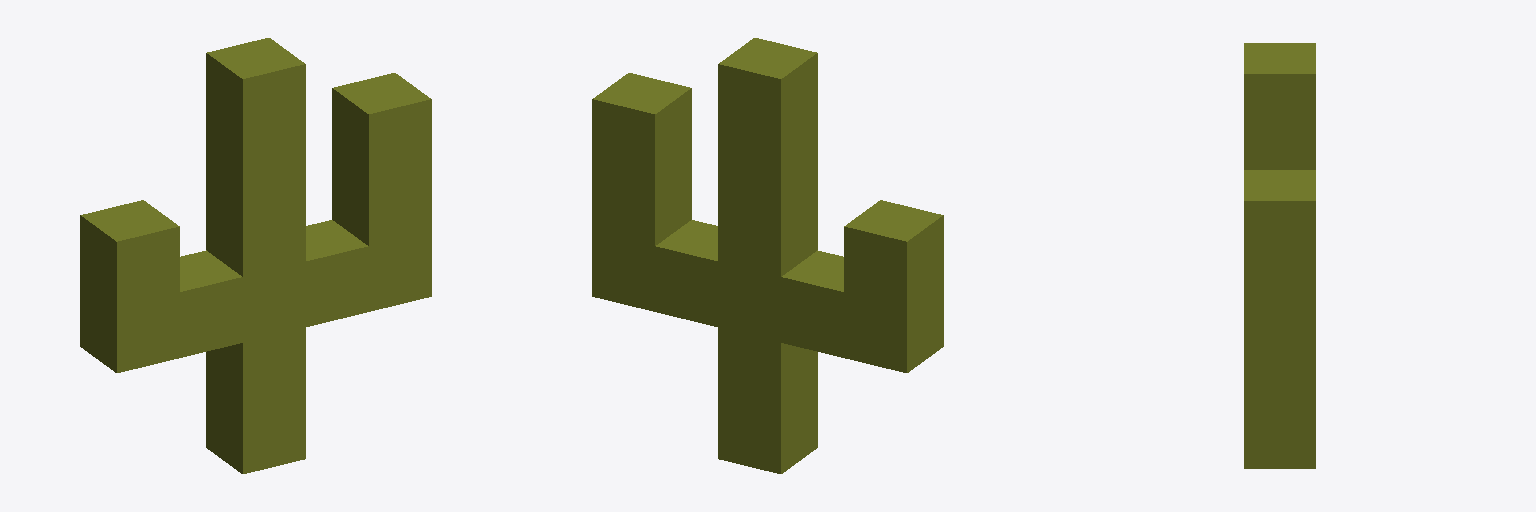
The picture shows the model from 3 angles: view 1: azimuth 30°, elevation 25°; view 2: azimuth 150°, elevation 25°; view 3: azimuth 270°, elevation 25°; orthographic projection.
Visible parts, largest first — view 1: object 1; view 2: object 1; view 3: object 1.
Boxes of the visible parts, x1,y1,x2,y2 form: object 1: [80, 38, 431, 473]; object 1: [592, 38, 943, 473]; object 1: [1244, 43, 1315, 468].
Bounding box in the file's own units: 0.5 × 0.6 × 0.1.
1 materials, 1 textured.